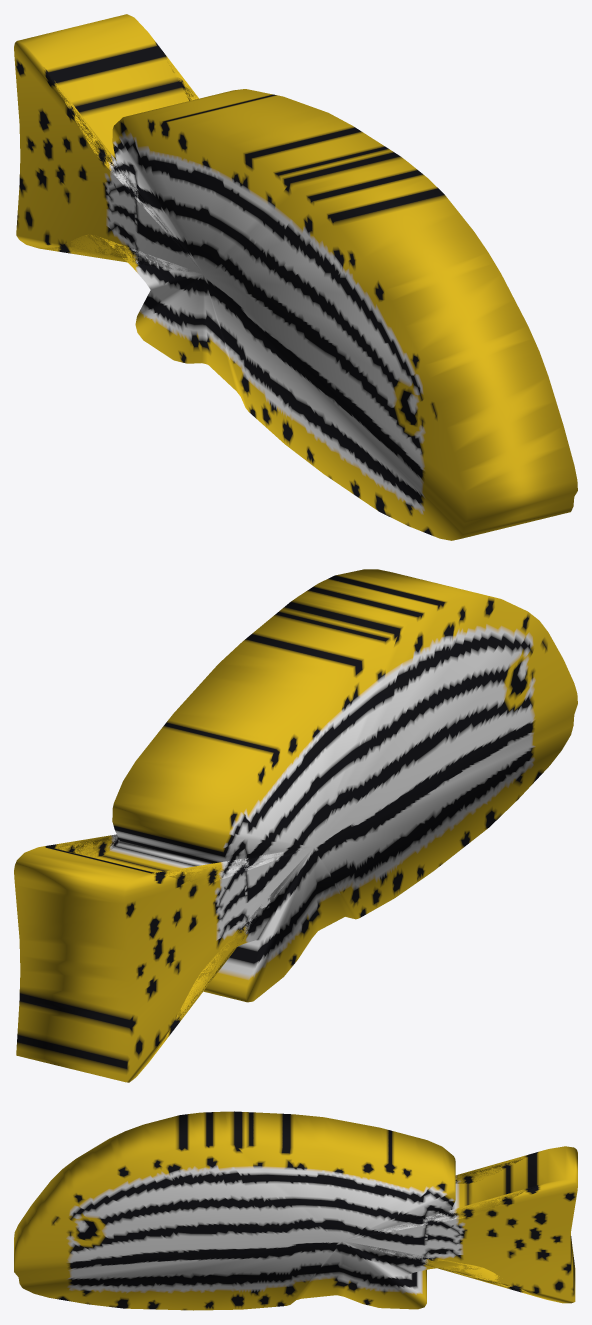
Rendered from blackspottedsweetlips.glb.
3 renders of one model, top to bottom at view 1: azimuth 30°, elevation 25°; view 2: azimuth 150°, elevation 25°; view 3: azimuth 270°, elevation 25°, orthographic. The views are drawn at different scales.
Visible parts, largest first — view 1: blackspottedsweetlips; view 2: blackspottedsweetlips; view 3: blackspottedsweetlips.
Boxes of the visible parts, x1,y1,x2,y2 form: blackspottedsweetlips: (14, 14, 577, 540); blackspottedsweetlips: (14, 569, 577, 1082); blackspottedsweetlips: (14, 1111, 577, 1310).
Size of the model in its own units: 0.2801 by 0.6481 by 2.
